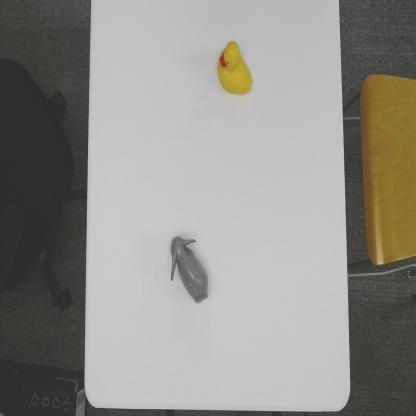Duck: (216, 38, 254, 96)
Elephant: (169, 233, 210, 305)
